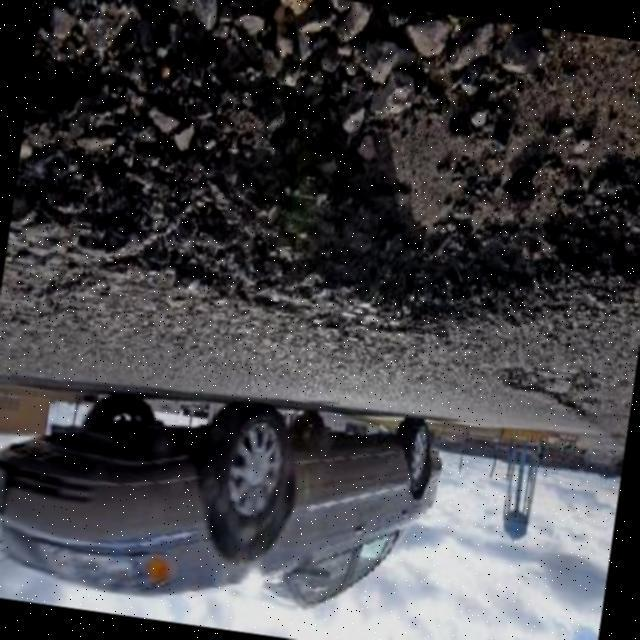Pothole: (11, 0, 640, 315)
